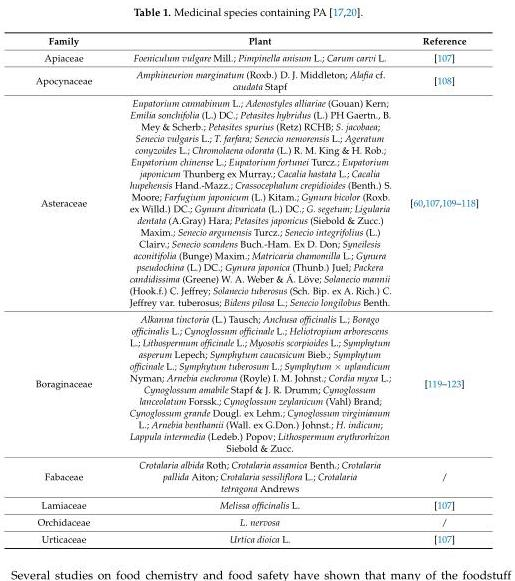table: (34, 34, 477, 544)
table column: (109, 34, 400, 544), (400, 34, 477, 544), (34, 34, 109, 544)
table column header: (34, 34, 477, 48)
table row: (34, 94, 477, 310), (34, 310, 477, 455), (34, 455, 477, 496), (34, 65, 477, 94), (34, 48, 477, 65), (34, 496, 477, 513), (34, 513, 477, 530), (34, 34, 477, 48), (34, 530, 477, 544)
